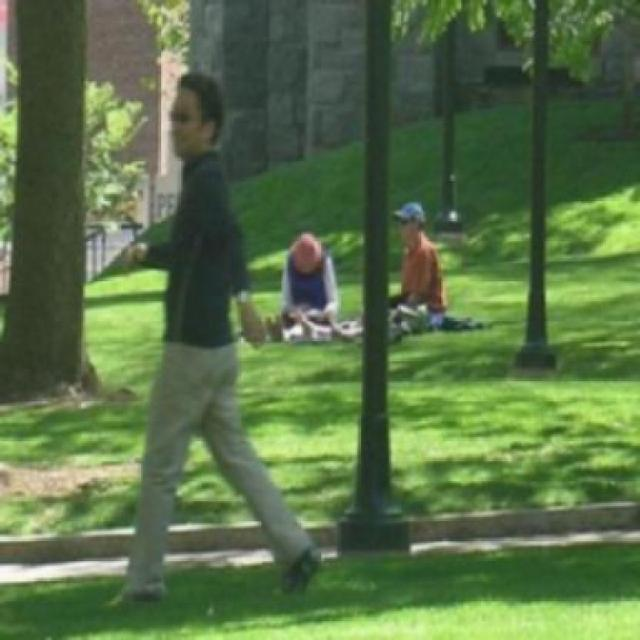Person: (98, 63, 325, 614), (266, 228, 342, 326), (386, 198, 448, 316)
